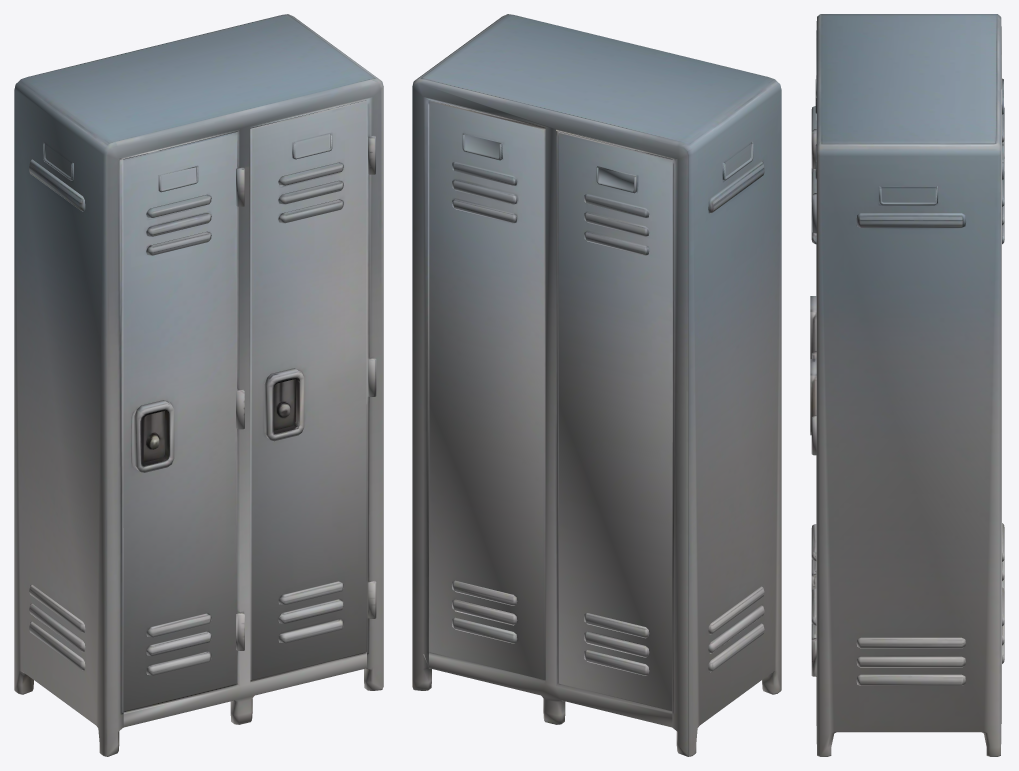
Rendered from a_metal_locker_c5ca76ff_v3.glb.
The picture shows the model from 3 angles, left to right: view 1: azimuth 30°, elevation 25°; view 2: azimuth 150°, elevation 25°; view 3: azimuth 270°, elevation 25°; orthographic projection.
Visible parts, largest first — view 1: material; view 2: material; view 3: material.
Boxes of the visible parts, x1,y1,x2,y2 form: material: (14, 14, 383, 756); material: (412, 14, 781, 756); material: (810, 14, 1004, 756).
Size of the model in its own units: 0.9342 by 1.9 by 0.5487.
1 material, 1 textured.
